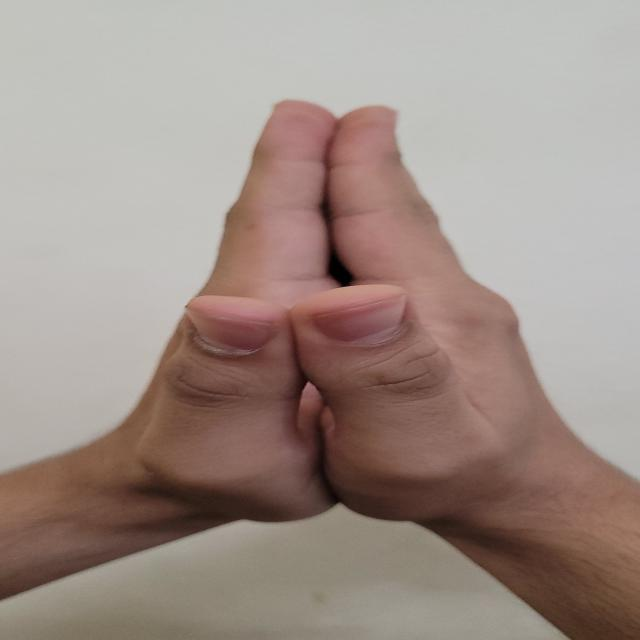Thank You: (93, 92, 580, 562)
